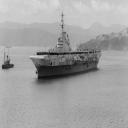Portanaves: (30, 3, 104, 83)
